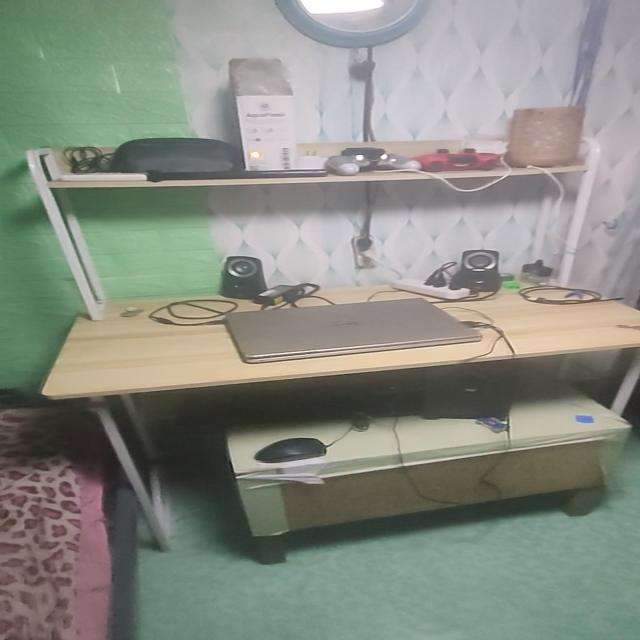table: (40, 272, 640, 560)
